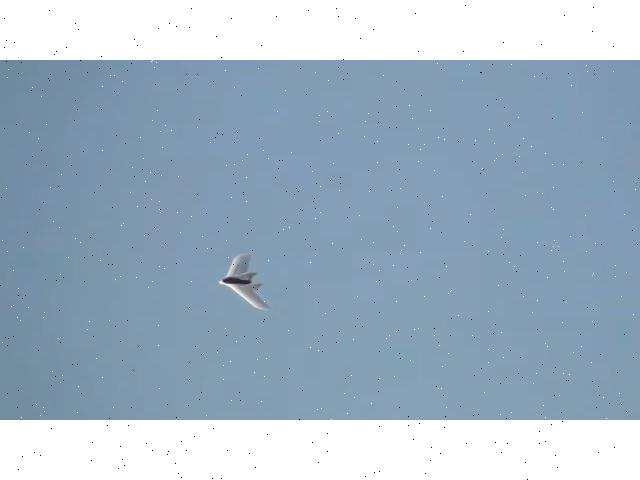Anti-Drone: (210, 245, 280, 319)
